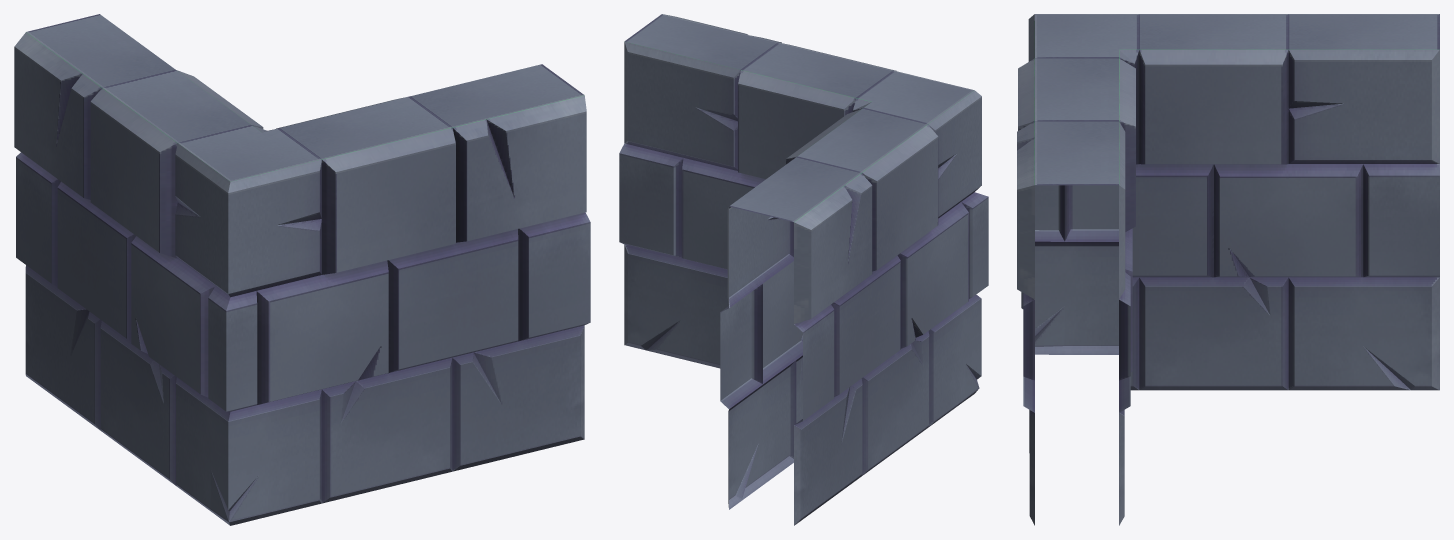
File: wall1.fbx
3 views of the same model, side by side, from view 1: azimuth 30°, elevation 25°; view 2: azimuth 150°, elevation 25°; view 3: azimuth 270°, elevation 25° (orthographic). The views are drawn at different scales.
Parts seen in each view (by area): view 1: ModularAssetsDisplay.006; view 2: ModularAssetsDisplay.006; view 3: ModularAssetsDisplay.006.
Boxes of the visible parts, <box> form: ModularAssetsDisplay.006: <box>14,14,590,525</box>; ModularAssetsDisplay.006: <box>619,14,988,525</box>; ModularAssetsDisplay.006: <box>1017,14,1439,525</box>.
Bounding box in the file's own units: 93.59 × 83.26 × 93.59.
